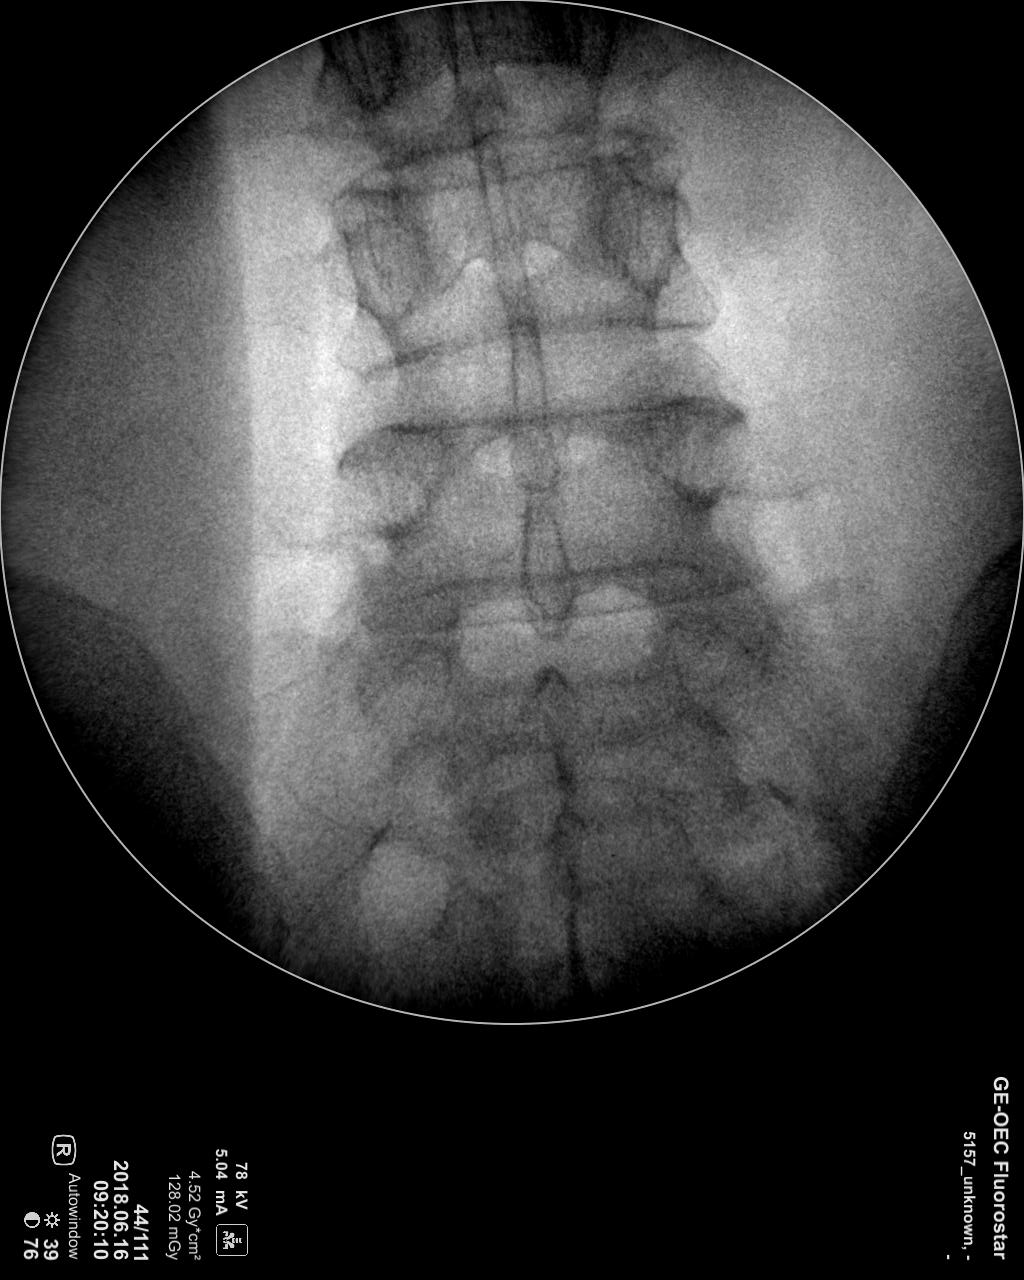eyes: (633, 394, 754, 509), (338, 425, 448, 538), (595, 178, 693, 294), (339, 219, 430, 325)
nose: (496, 315, 568, 498), (470, 144, 541, 319), (508, 490, 581, 632), (439, 11, 506, 144)
